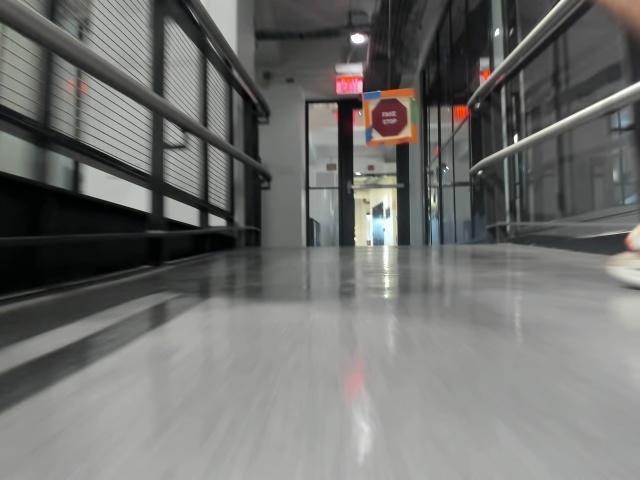Fake Stop: (369, 99, 407, 139)
